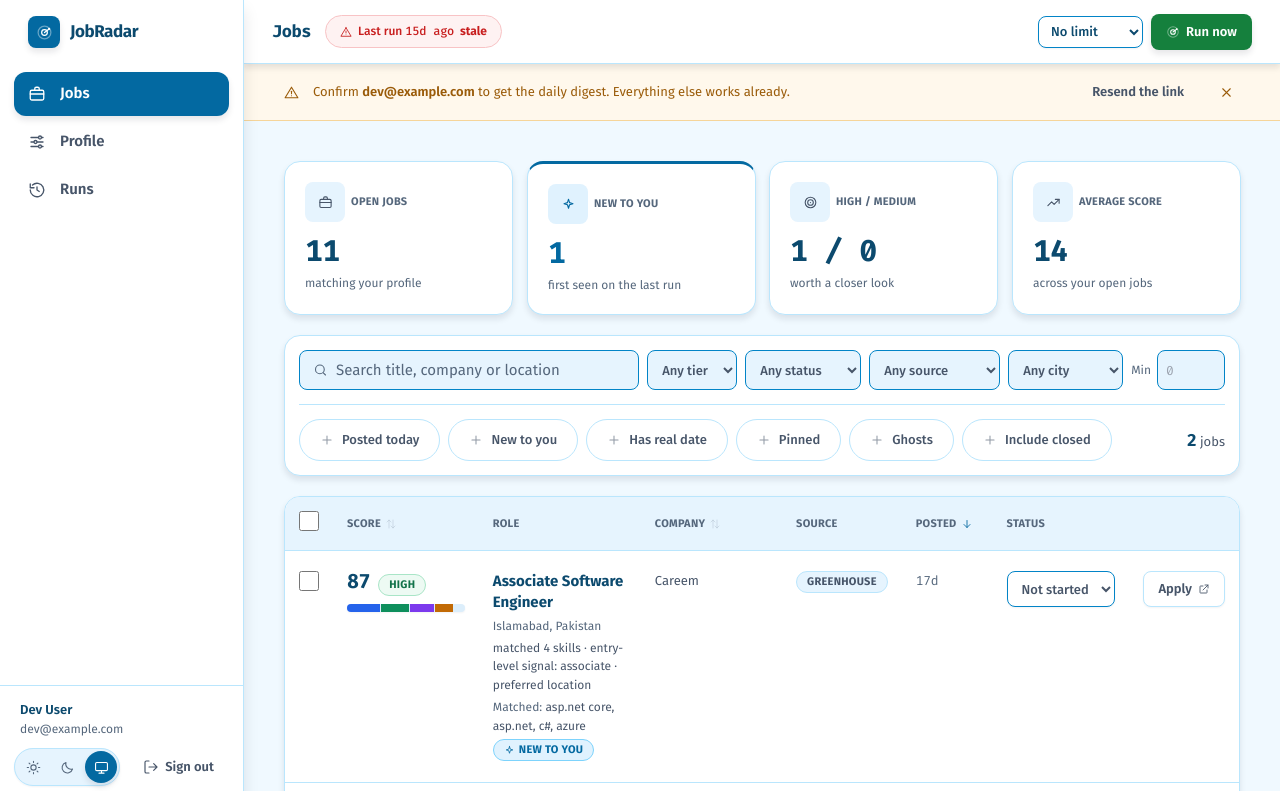
it: the unverified banner › appears for an unverified one and can send a fresh link
This screenshot has width=1280, height=791.
expect the text "to get the daily digest" is shown: met, box left=475, top=84, right=790, bottom=99
Click the button "Resend the link" at x=1138, y=92, box left=1077, top=74, right=1199, bottom=110
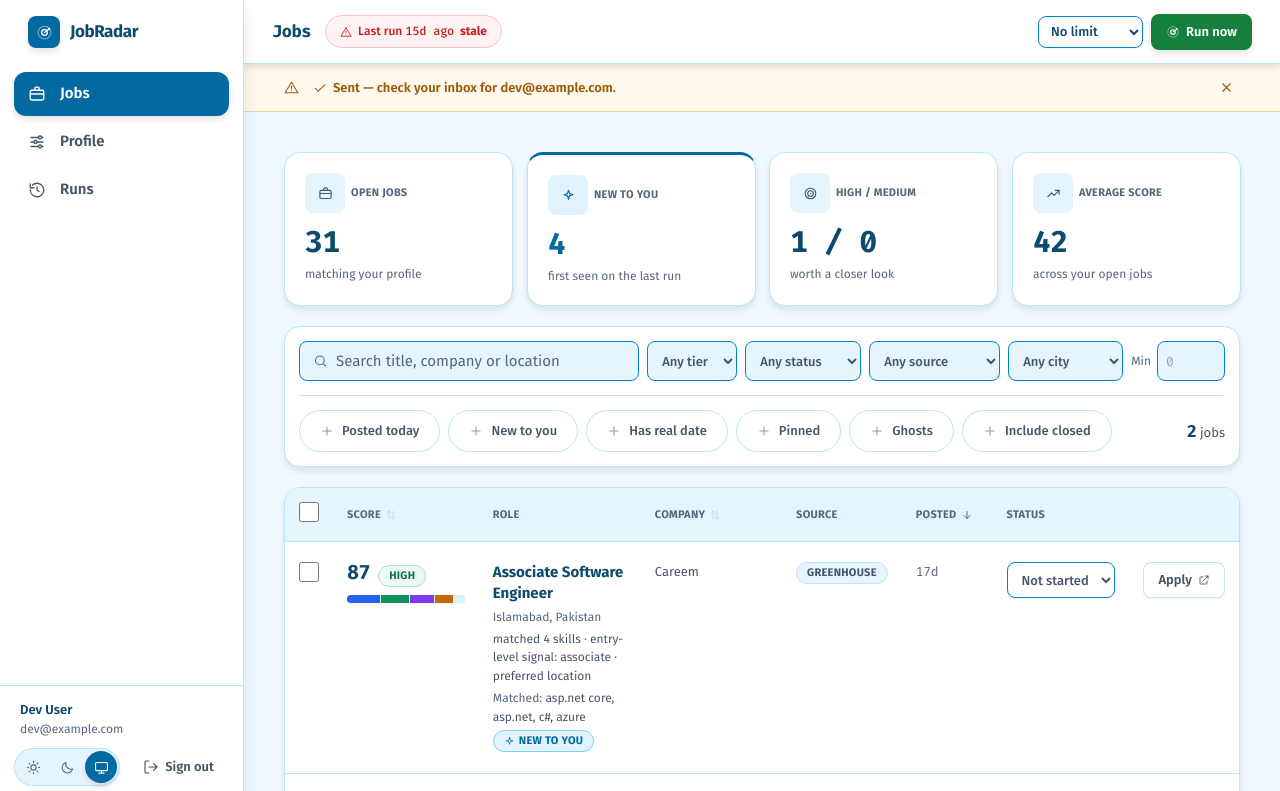
expect the text "Sent — check your inbox for dev@example.com." is shown: met, box left=333, top=80, right=500, bottom=94
